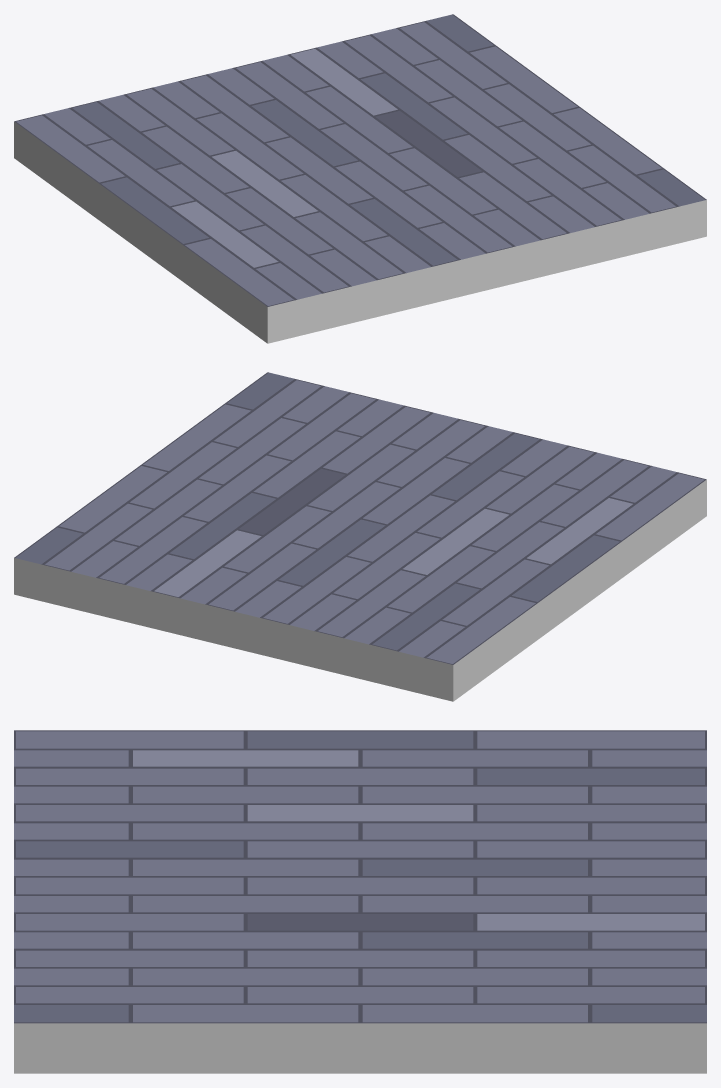
File: Floor11_01.fbx
The picture shows the model from 3 angles, top to bottom: view 1: azimuth 30°, elevation 25°; view 2: azimuth 150°, elevation 25°; view 3: azimuth 270°, elevation 25°; orthographic projection. The views are drawn at different scales.
Visible parts, largest first — view 1: Floor11_01; view 2: Floor11_01; view 3: Floor11_01.
Boxes of the visible parts, x1,y1,x2,y2 form: Floor11_01: [14, 14, 706, 343]; Floor11_01: [14, 372, 706, 701]; Floor11_01: [14, 730, 706, 1073].
Size of the model in its own units: 250 by 20 by 250.
